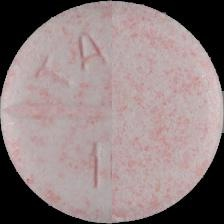60429-934: (0, 0, 224, 224)
